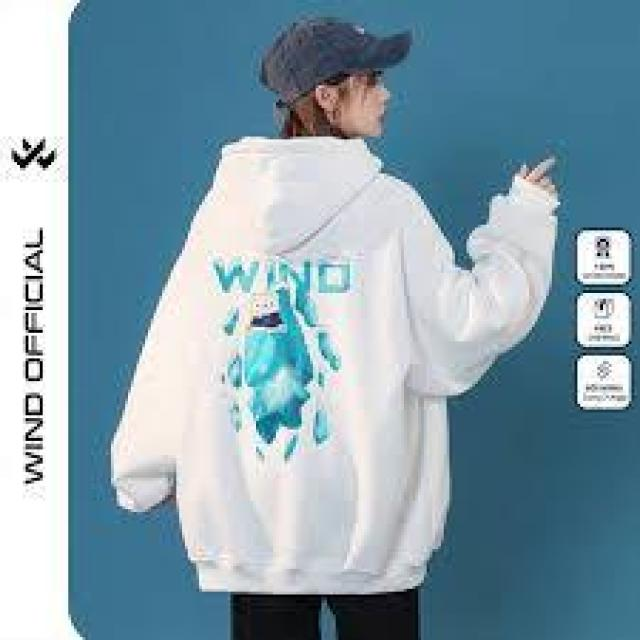sweater: (118, 138, 542, 593)
